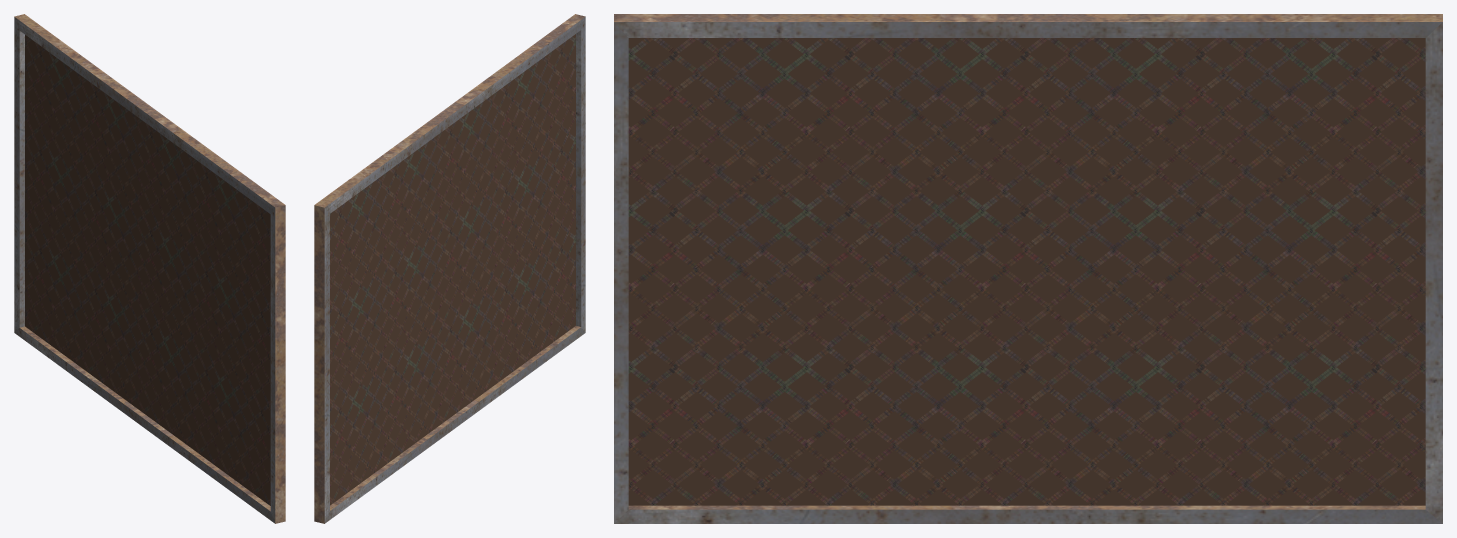
File: fence_grid.FBX
3 renders of one model, left to right at view 1: azimuth 30°, elevation 25°; view 2: azimuth 150°, elevation 25°; view 3: azimuth 270°, elevation 25°, orthographic. The views are drawn at different scales.
Visible parts, largest first — view 1: fence_grid; view 2: fence_grid; view 3: fence_grid.
Boxes of the visible parts, x1,y1,x2,y2 form: fence_grid: [14, 14, 285, 523]; fence_grid: [314, 14, 585, 523]; fence_grid: [614, 14, 1442, 523].
Size of what is drawn, in the model's own units: 6.92 by 200 by 299.
